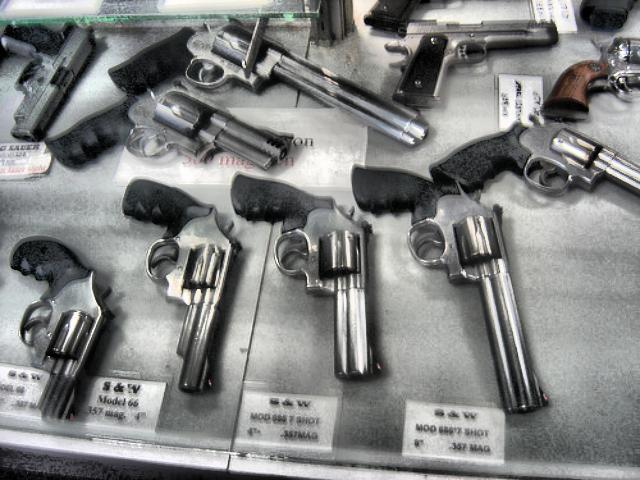pistol: (348, 163, 556, 419), (110, 16, 432, 142), (228, 169, 374, 382), (125, 176, 242, 398), (46, 84, 294, 170), (4, 236, 114, 418), (427, 117, 638, 191), (386, 15, 560, 104), (0, 18, 96, 144)
